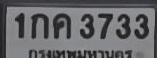1: (14, 12, 24, 37)
3: (115, 13, 130, 38), (133, 13, 148, 38), (79, 13, 94, 38)
7: (97, 12, 112, 38)
A01: (30, 12, 48, 38)
A04: (52, 12, 70, 38)
